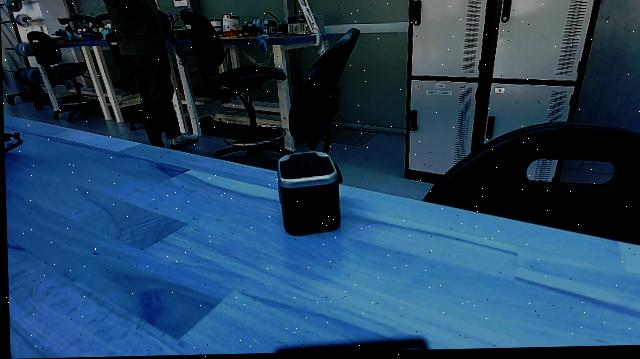adapter: (266, 146, 342, 237)
